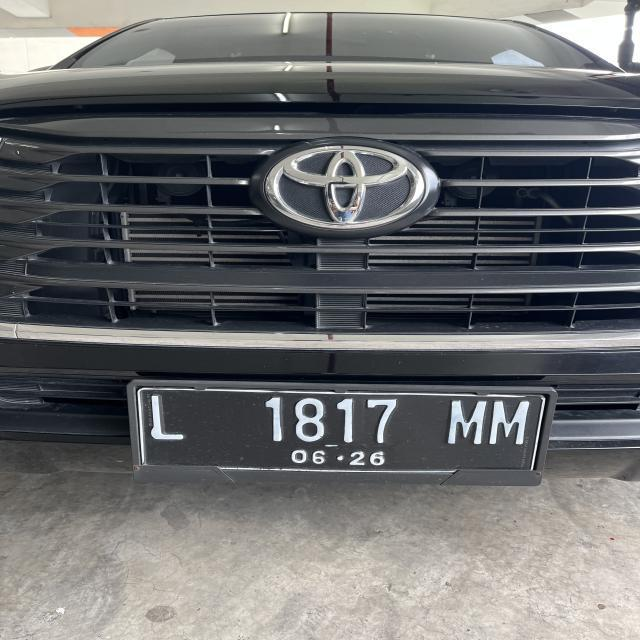1: (336, 398, 360, 446), (268, 393, 290, 444)
7: (369, 397, 402, 445)
8: (296, 393, 326, 442)
L: (148, 390, 188, 446)
M: (491, 398, 534, 452), (449, 397, 485, 448)
